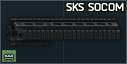SKS UTG SOCOM rail mount: (0, 0, 127, 64)
